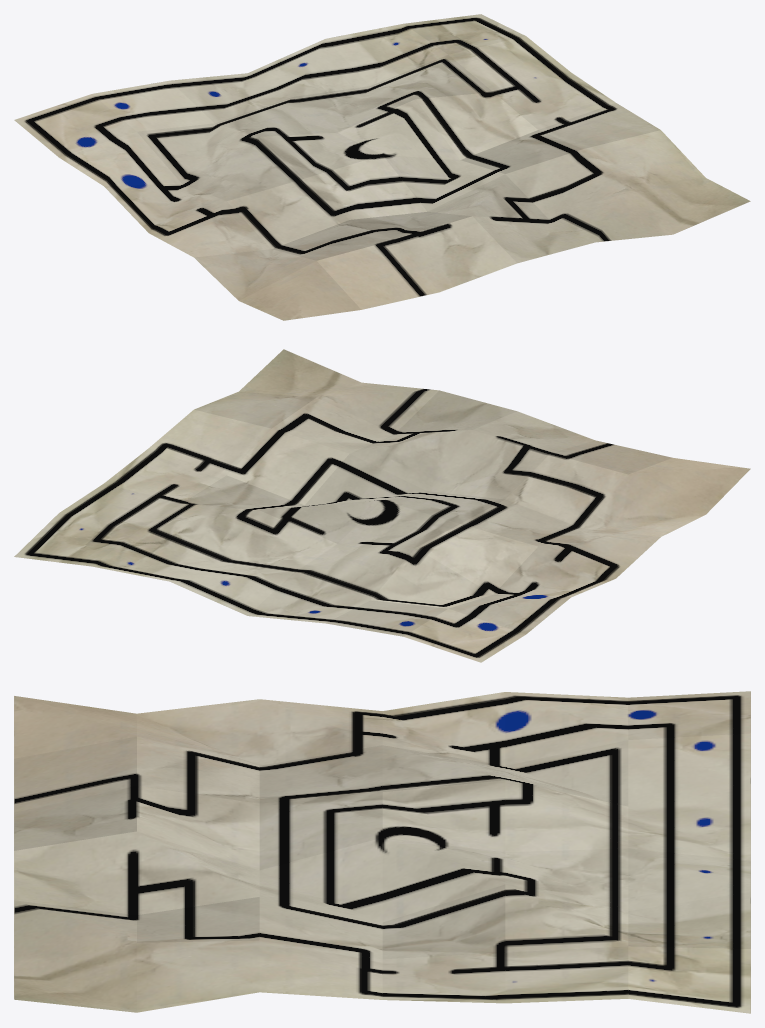
Rendered from shrinkmap.glb.
The picture shows the model from 3 angles, top to bottom: view 1: azimuth 30°, elevation 25°; view 2: azimuth 150°, elevation 25°; view 3: azimuth 270°, elevation 25°; orthographic projection. The views are drawn at different scales.
Visible parts, largest first — view 1: Plane; view 2: Plane; view 3: Plane.
Boxes of the visible parts, x1,y1,x2,y2 form: Plane: (14,14,750,320); Plane: (14,349,750,662); Plane: (14,691,750,1013).
Size of the model in its own units: 2 by 0.1176 by 2.
1 material, 1 textured.
